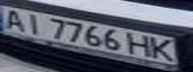6: (81, 23, 106, 48), (103, 26, 124, 53)
7: (42, 16, 69, 39), (63, 19, 84, 44)
A: (0, 7, 30, 32)
H: (127, 32, 154, 57)
I: (21, 11, 48, 35)
K: (148, 36, 178, 62)
